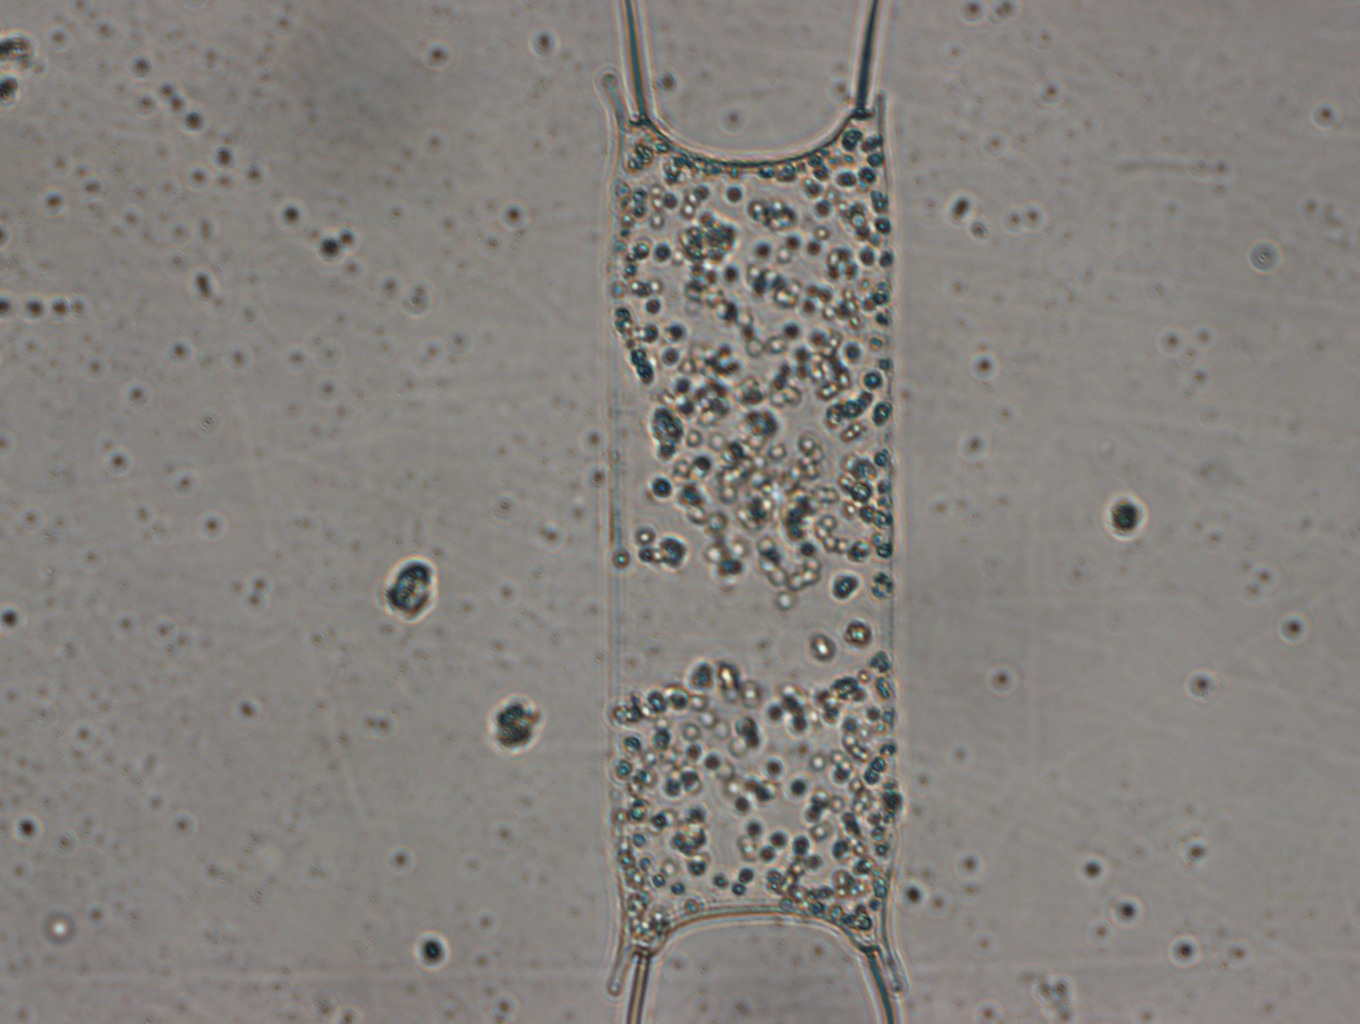biddulphia: (602, 1, 912, 1024)
